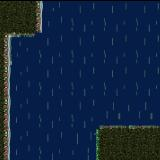Interaction: (0, 26, 19, 160), (18, 26, 52, 44), (30, 0, 53, 26)
Slow: (12, 36, 160, 122), (45, 0, 160, 37), (11, 121, 93, 160)
